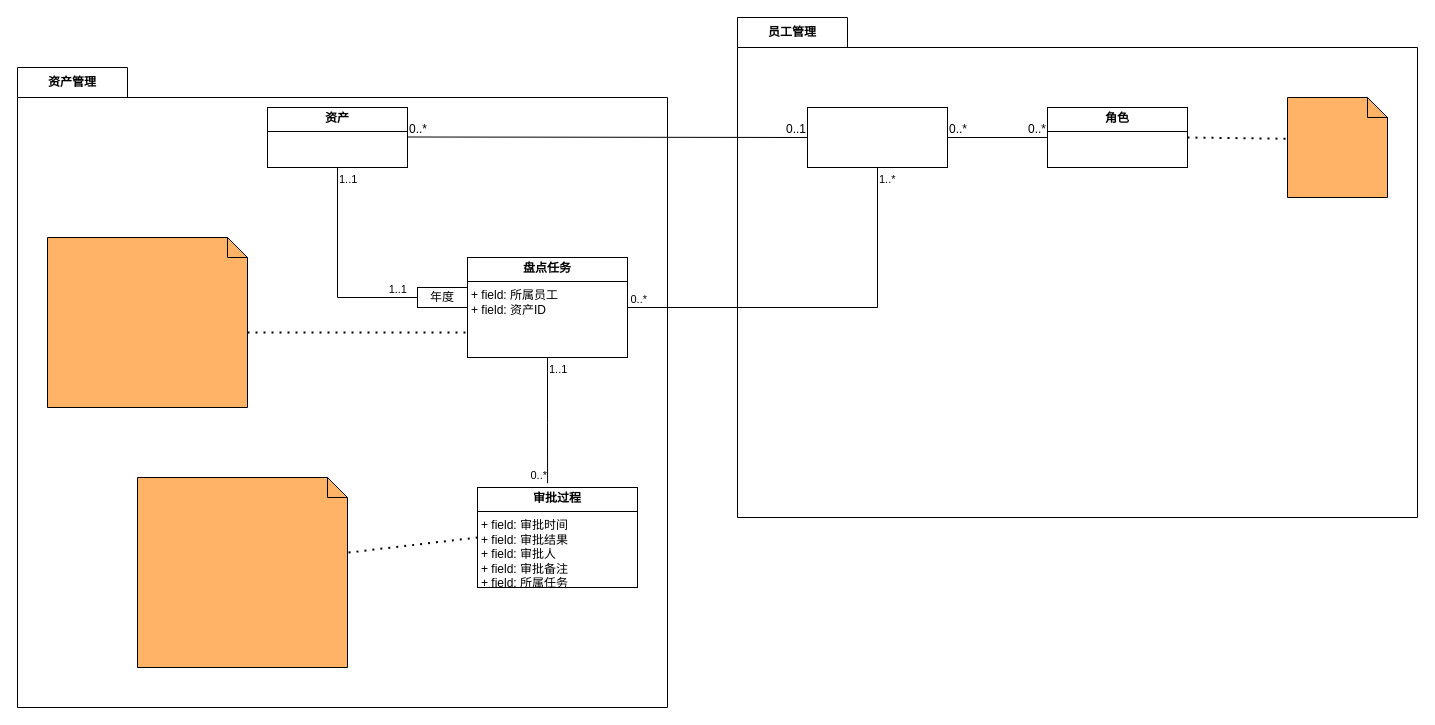
This 1435x725 diagram has some shape labels left out. The centre of each missing label's shape, as x and y in pixels:
- 管理员 -: (1337,147)
{ - 只允许当前审批节点人操作 - 员工：审批时间、审批人、审批结果（提交） - 管理员：审批时间、审批人、审批结果（同意/驳回）、审批备注 }: (242,572)
{ - 未分配员工的资产，任务分发给所有的管理员 - 已分配员工的资产，任务分发给对应员工 - 管理员可以修改所属员工 }: (147,322)
员工: (877,137)
